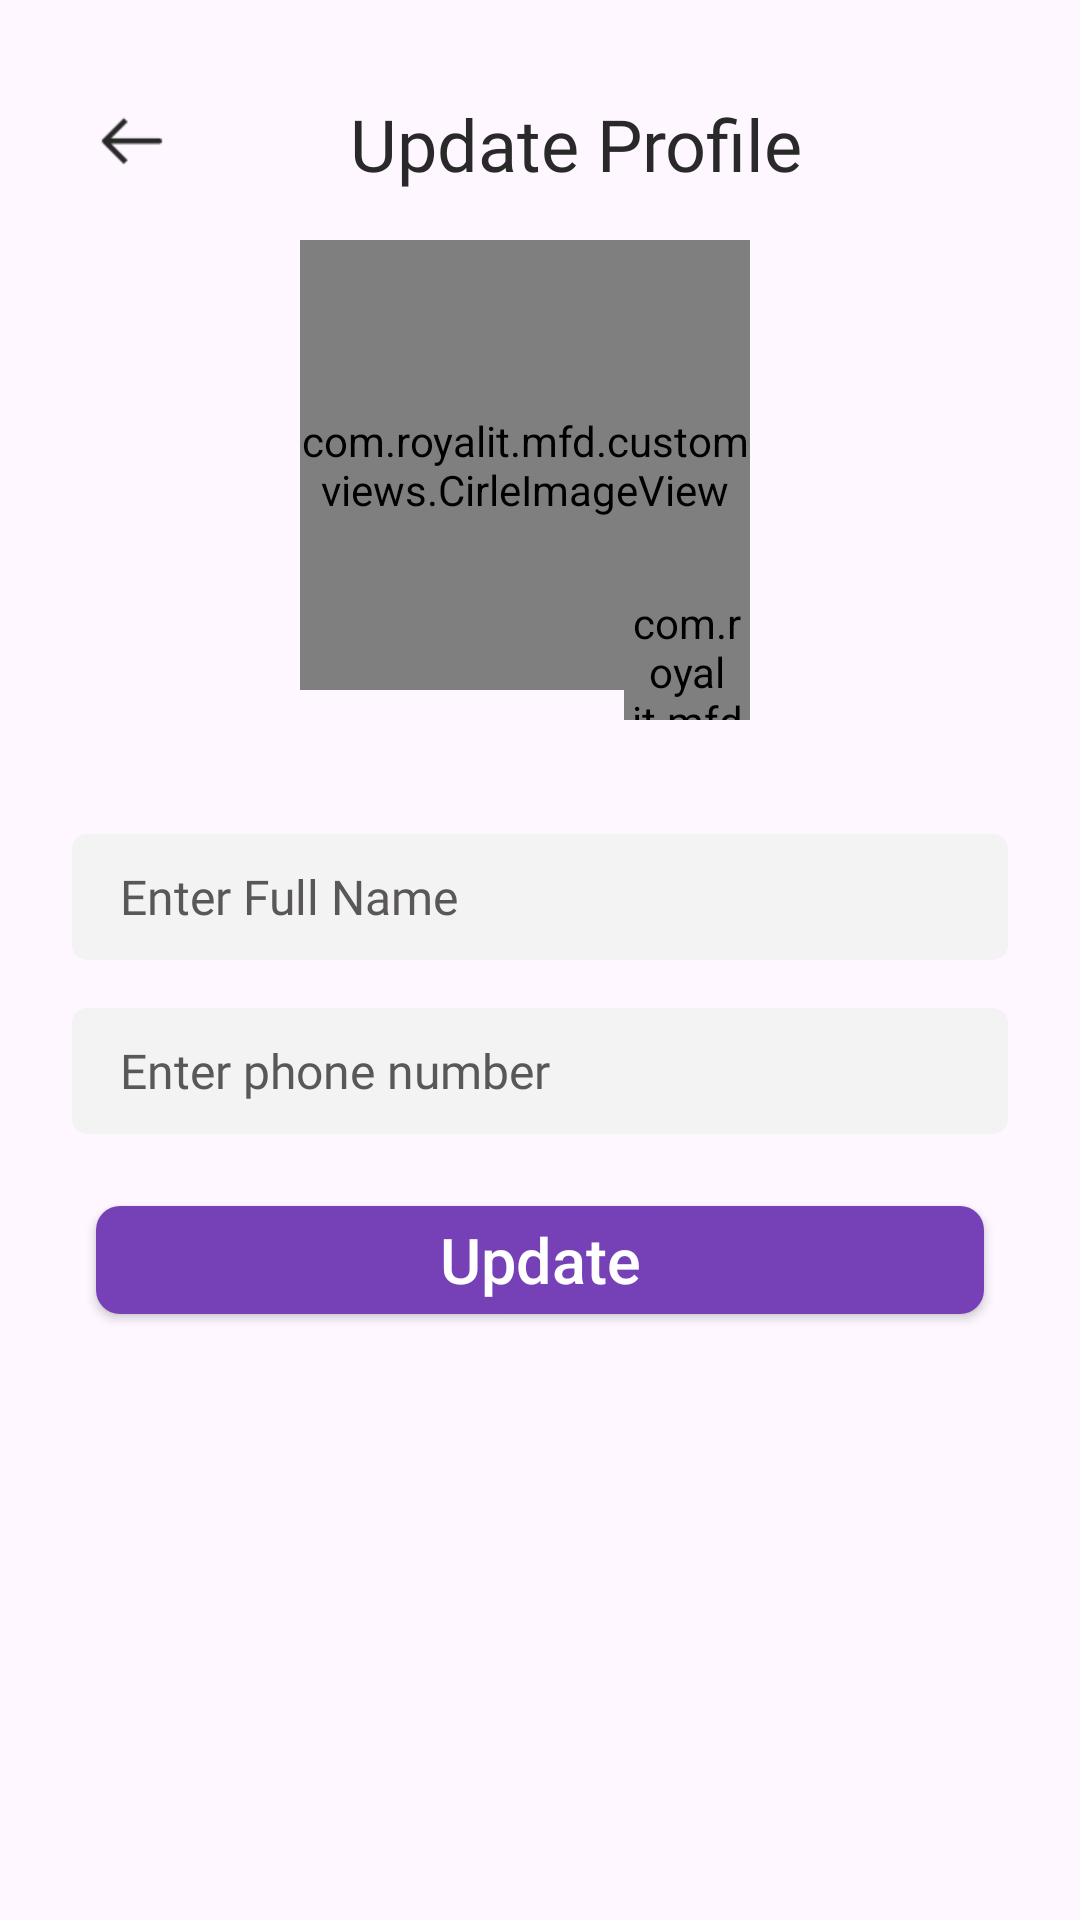

Icon click points for this 1080x1920 phone screenshot, format (x,y):
arrow left: (132,140)
